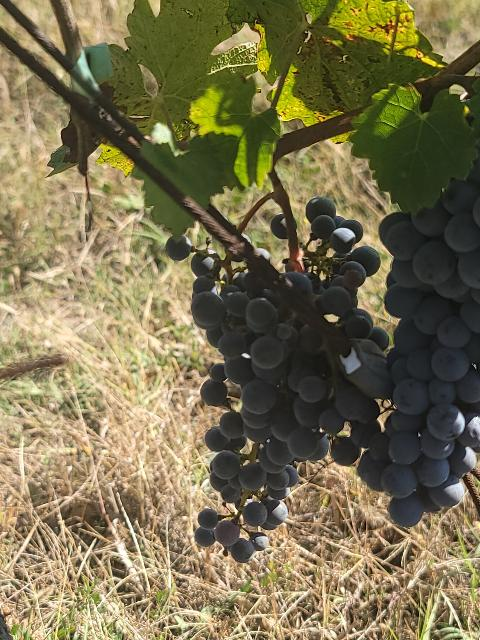grapes: (191, 251, 380, 562), (341, 150, 480, 528), (280, 196, 389, 350)
